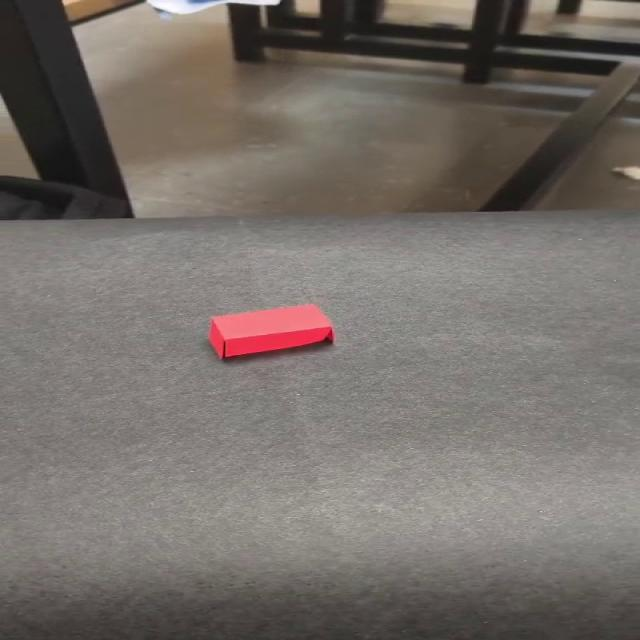red block: (206, 302, 334, 359)
